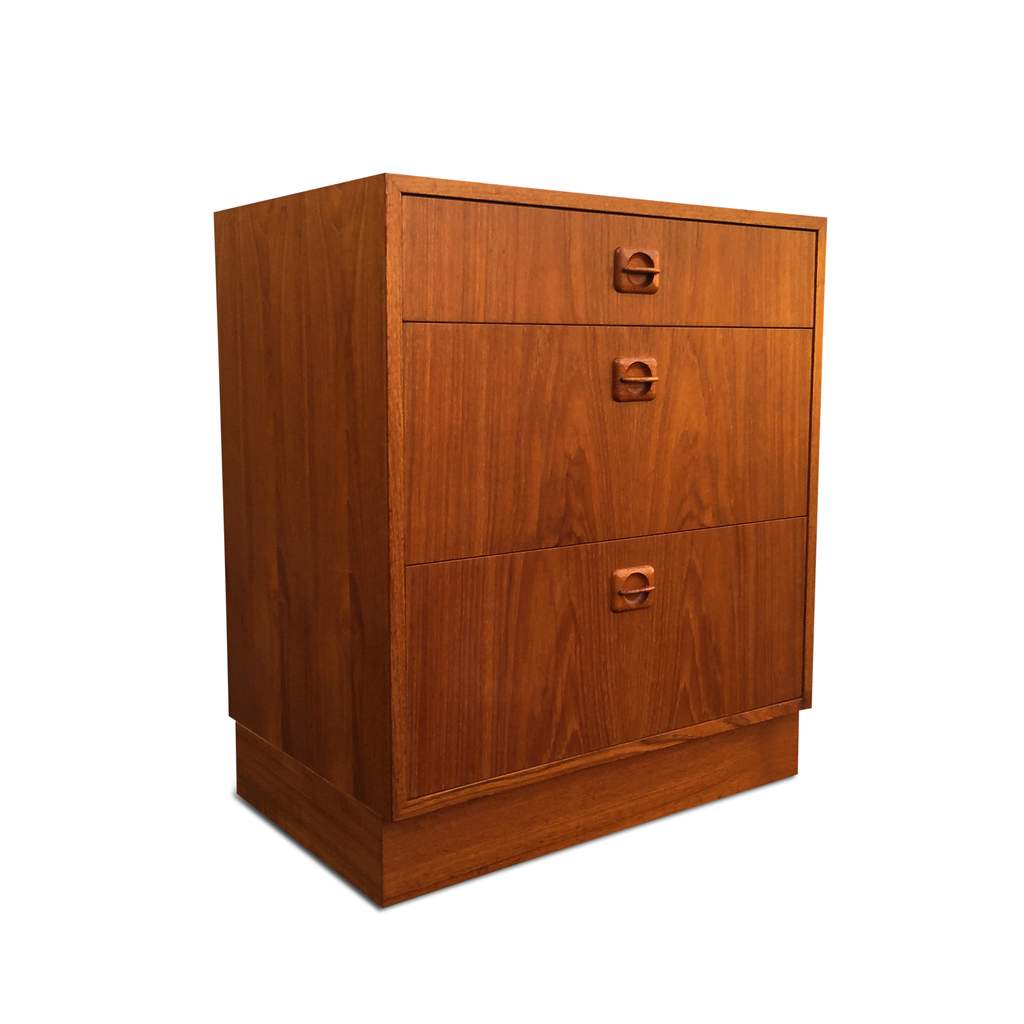cabinet door: (398, 319, 810, 525), (408, 565, 813, 713), (406, 193, 824, 314)
handle: (610, 556, 667, 612), (610, 353, 666, 401), (611, 247, 670, 290)
